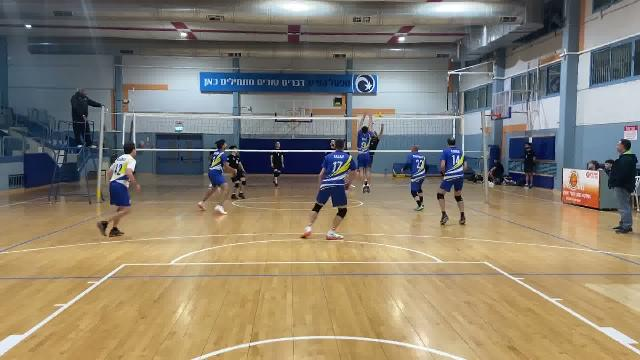ball: (373, 110, 385, 120)
